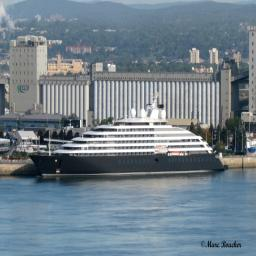cruises: (31, 99, 231, 179)
